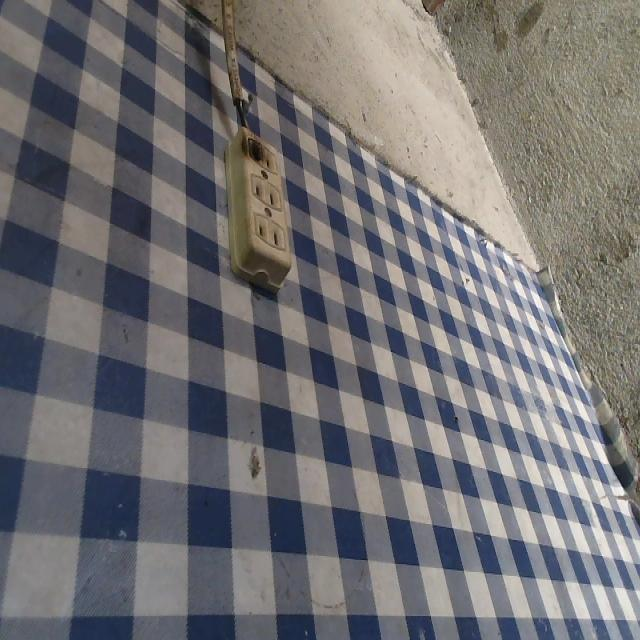-: (237, 125, 266, 167)
